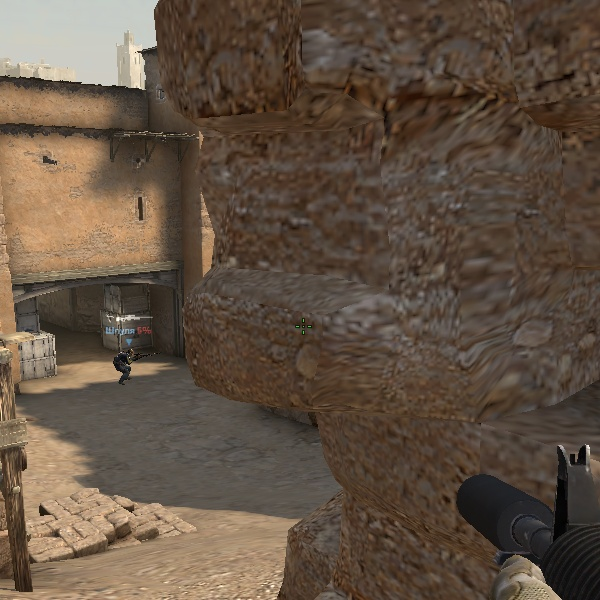ct_body: (113, 346, 137, 384)
ct_head: (127, 348, 135, 358)
